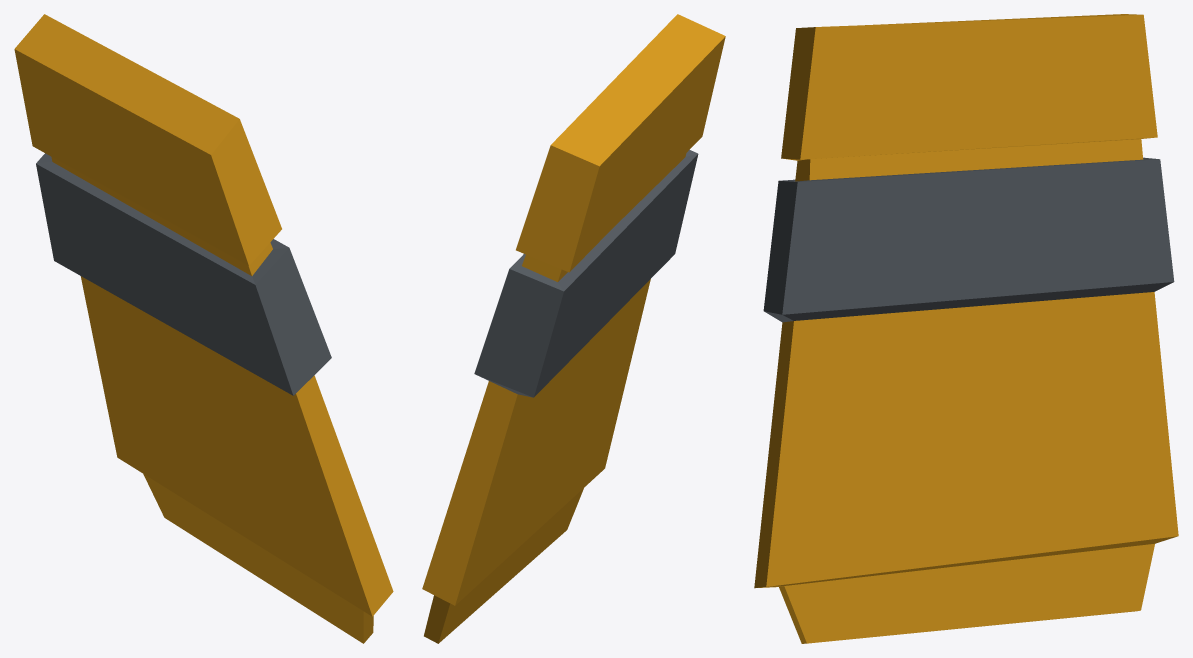
File: Dropship_01_Flap_Right_Yellow.fbx
3 renders of one model, left to right at view 1: azimuth 30°, elevation 25°; view 2: azimuth 150°, elevation 25°; view 3: azimuth 270°, elevation 25°, orthographic.
Visible parts, largest first — view 1: Dropship_01_Flap_Right_Yellow; view 2: Dropship_01_Flap_Right_Yellow; view 3: Dropship_01_Flap_Right_Yellow.
Part boxes in pixels (x1,y1,x2,y2): Dropship_01_Flap_Right_Yellow: [14, 14, 393, 643]; Dropship_01_Flap_Right_Yellow: [422, 14, 725, 643]; Dropship_01_Flap_Right_Yellow: [754, 14, 1178, 643].
Bounding box in the file's own units: 119 × 306 × 211.
Materials: 1 (1 with a texture image).
